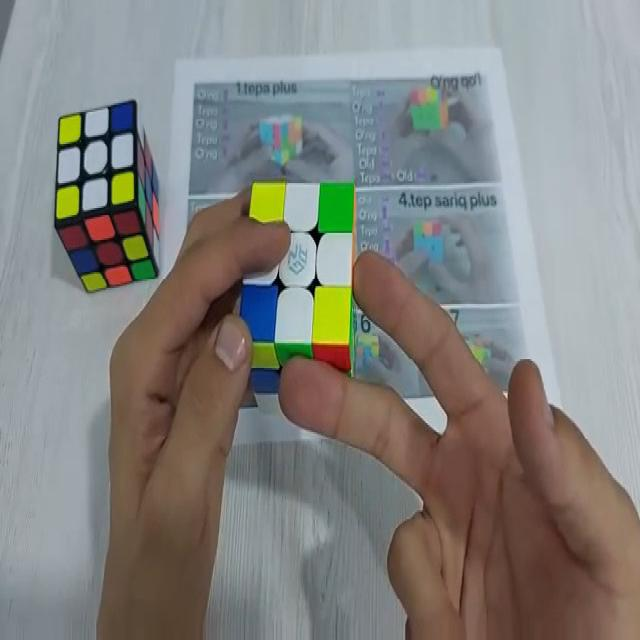Rub: (238, 181, 359, 414), (54, 97, 159, 294)
